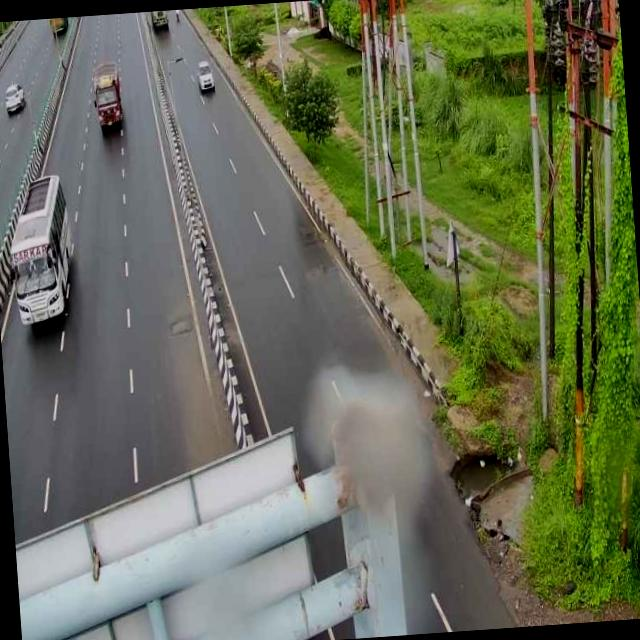car: (192, 54, 218, 98), (0, 78, 27, 120)
